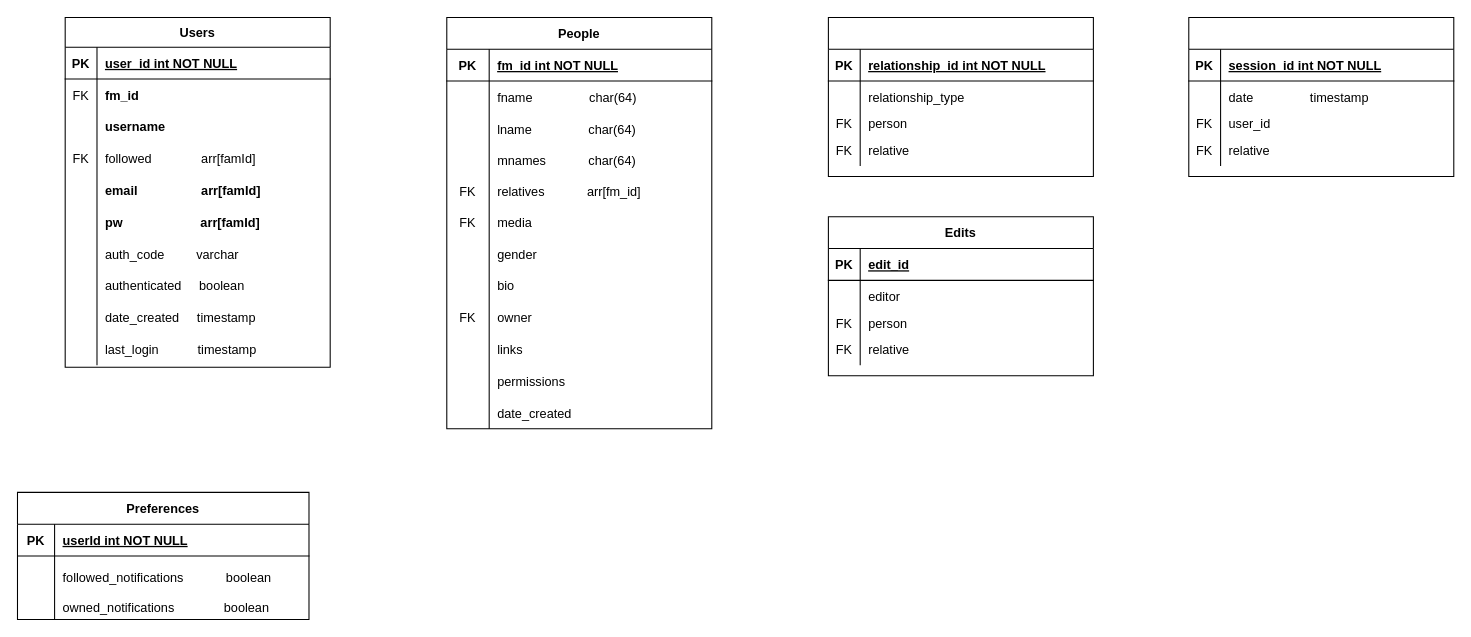
Image size: 1471x637. Some labels were removed from this diagram. Each missing label, with the box of its shape:
Relationships: (827, 16, 1093, 176)
Sessionis: (1188, 16, 1454, 176)
